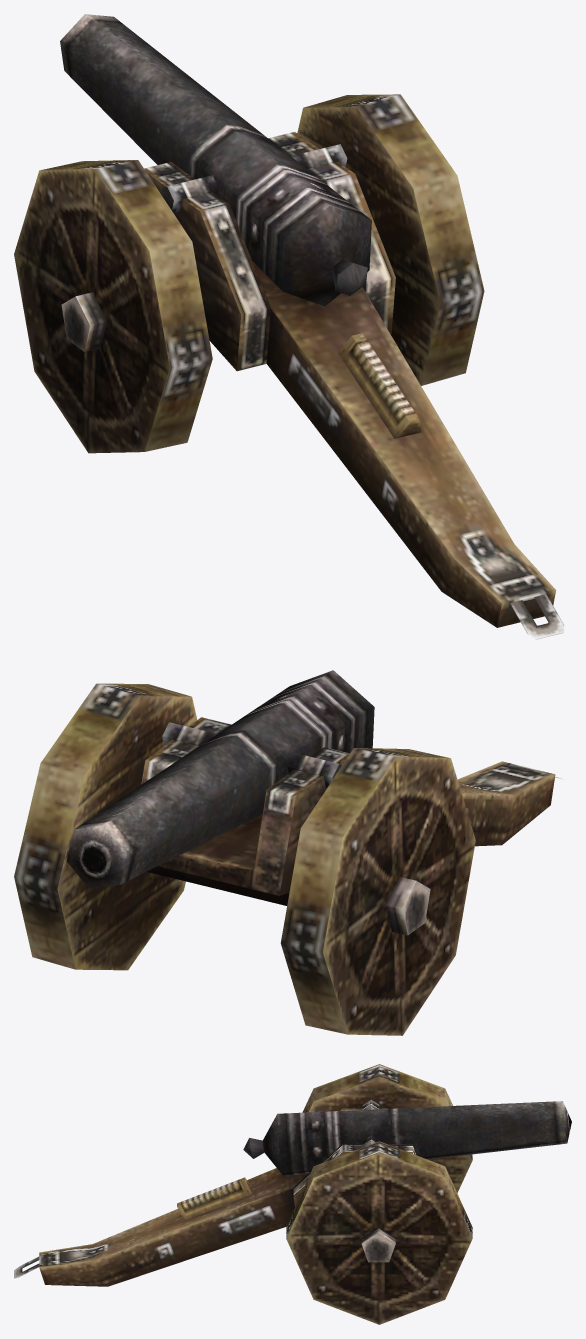
Rendered from OZ_22_mi_canon02A.glb.
3 renders of one model, top to bottom at view 1: azimuth 30°, elevation 25°; view 2: azimuth 150°, elevation 25°; view 3: azimuth 270°, elevation 25°, orthographic. The views are drawn at different scales.
Visible parts, largest first — view 1: OM_22_mi_canon02A; view 2: OM_22_mi_canon02A; view 3: OM_22_mi_canon02A.
Part boxes in pixels (bbox=[...]): OM_22_mi_canon02A: bbox=[14, 14, 564, 639]; OM_22_mi_canon02A: bbox=[14, 670, 562, 1035]; OM_22_mi_canon02A: bbox=[14, 1064, 571, 1324].
Bounding box in the file's own units: 1.92 × 1.54 × 4.44.
1 material, 1 textured.
